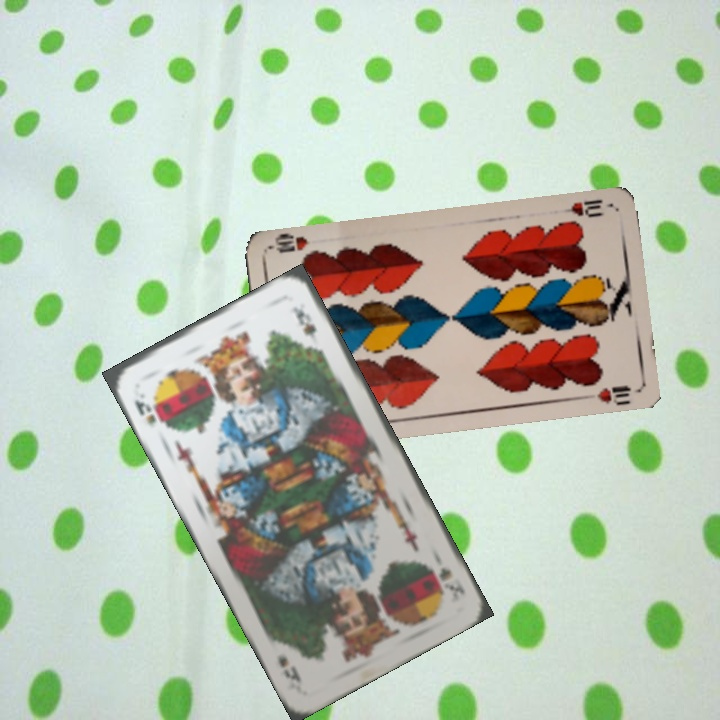H10: (554, 195, 607, 220)
SK: (435, 563, 468, 606), (130, 396, 159, 428)
